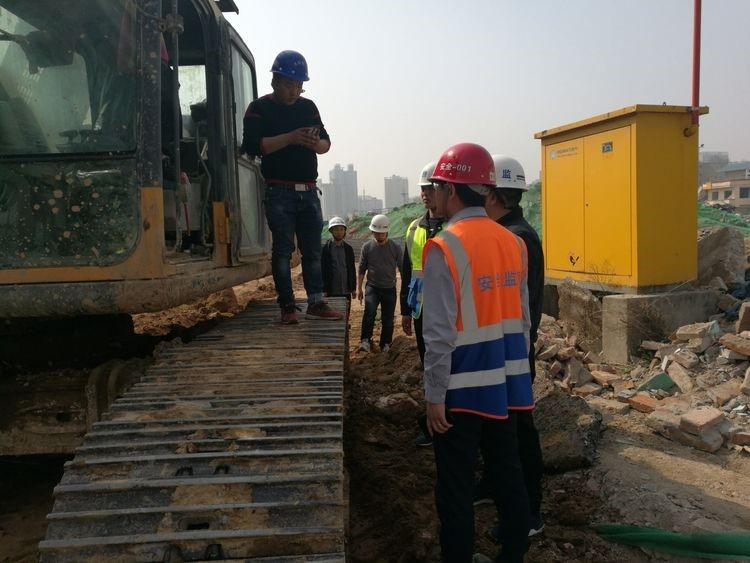helmet: (429, 142, 498, 188), (493, 156, 530, 194), (270, 51, 311, 84), (417, 160, 439, 189), (370, 215, 392, 235), (328, 217, 348, 231)
